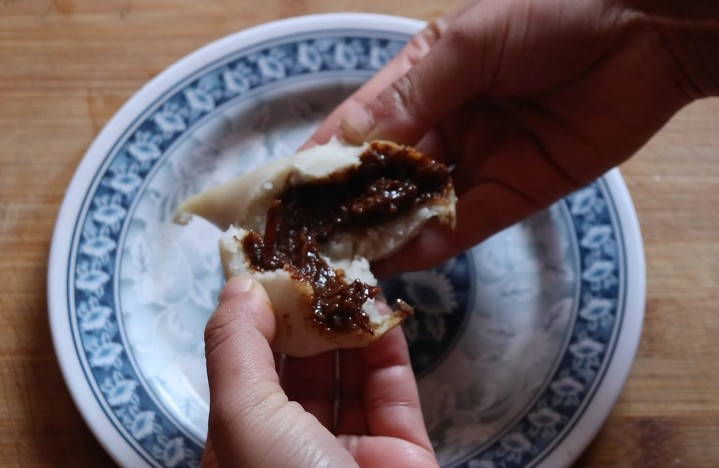yomari: (180, 122, 468, 251)
